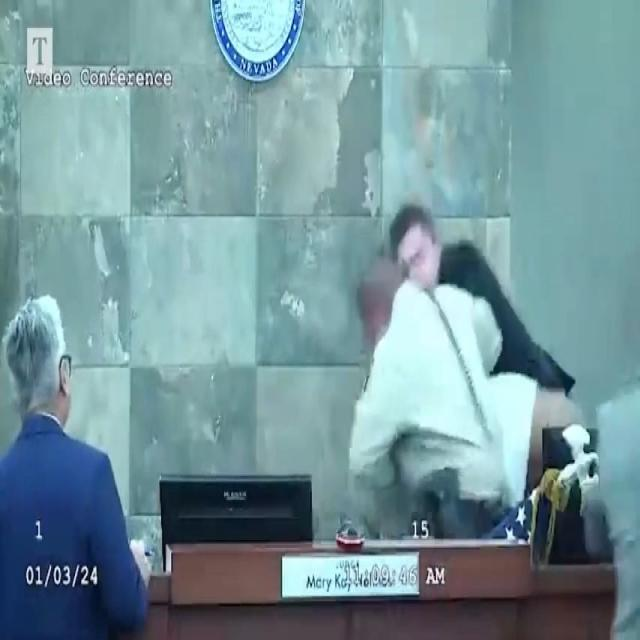fight: (338, 196, 588, 532)
non-fight: (0, 261, 154, 640)
